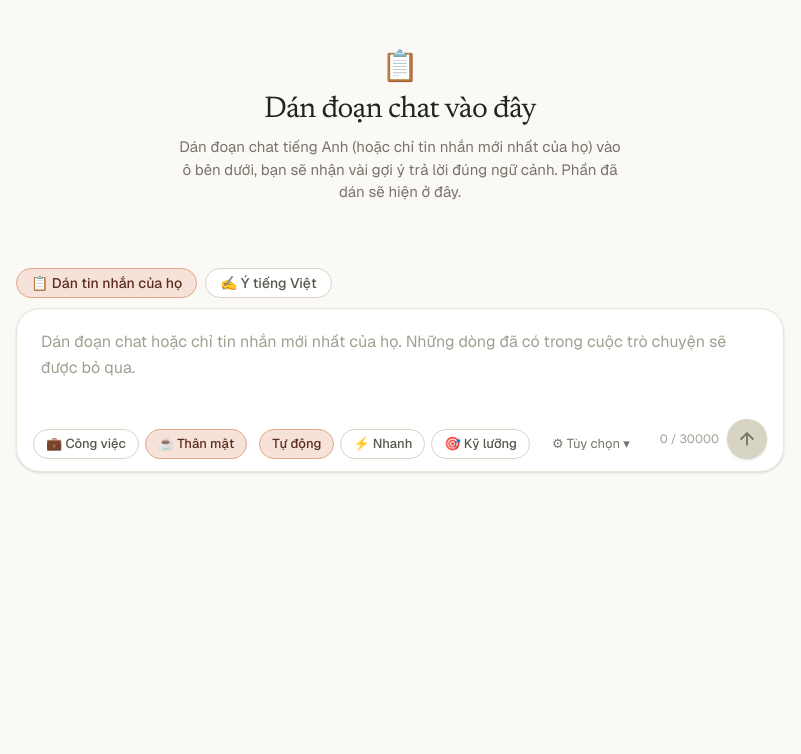
Test: ReplyComposer with the writer's notes › tells which notes a pasted message's replies used
Replace the text in the text box with "Alice: It's exhausting when moving to a new place." at coordinates (400, 366), box [29,320,771,410]
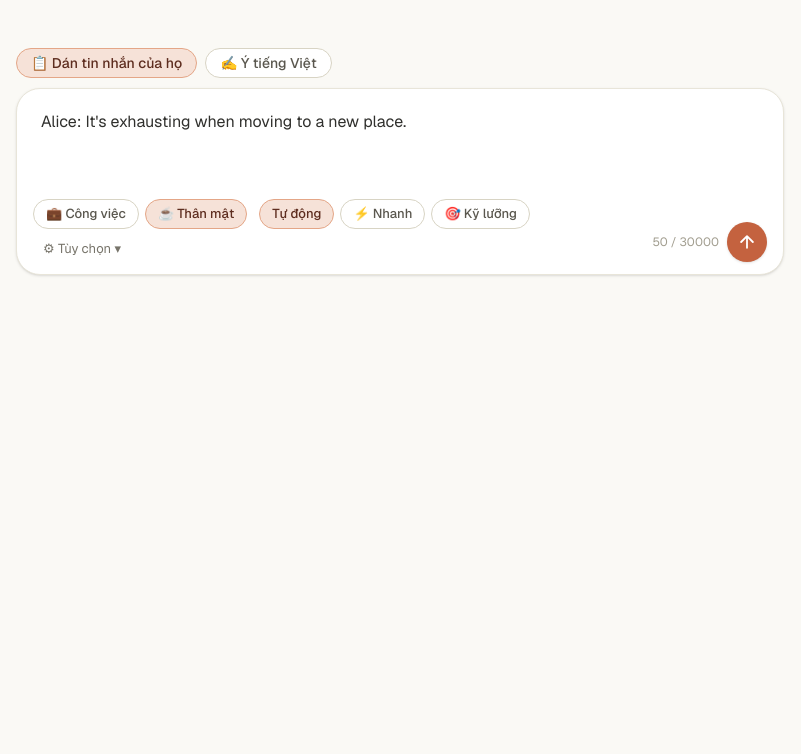
Click the button named "Gợi ý trả lời" at coordinates (747, 242), box [727,222,767,262]
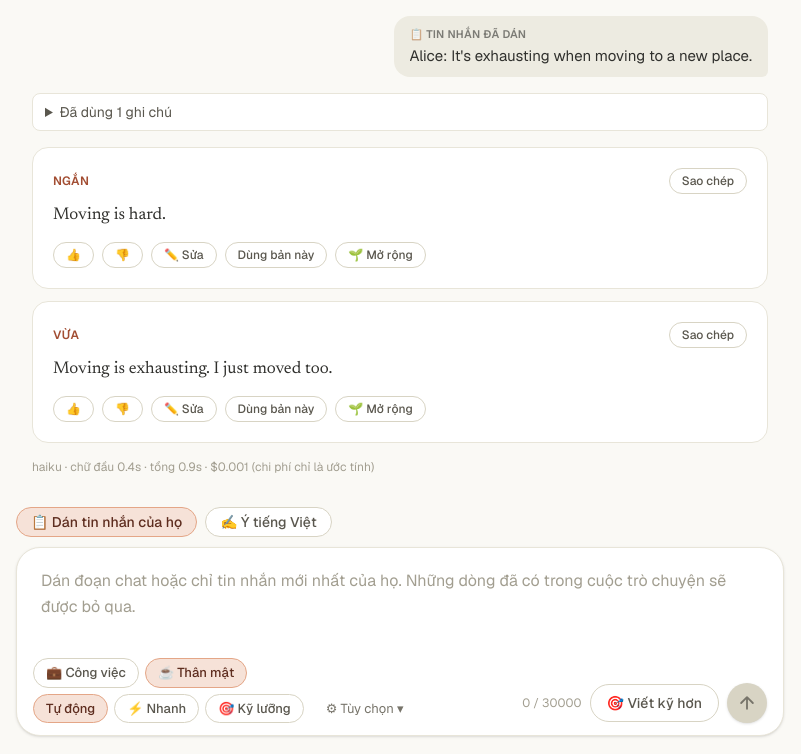
Check: the text "Moving is hard." is shown, box [53,207,166,224]
Check: the heading "Đã dùng 1 ghi chú" is shown, box [60,103,172,121]
